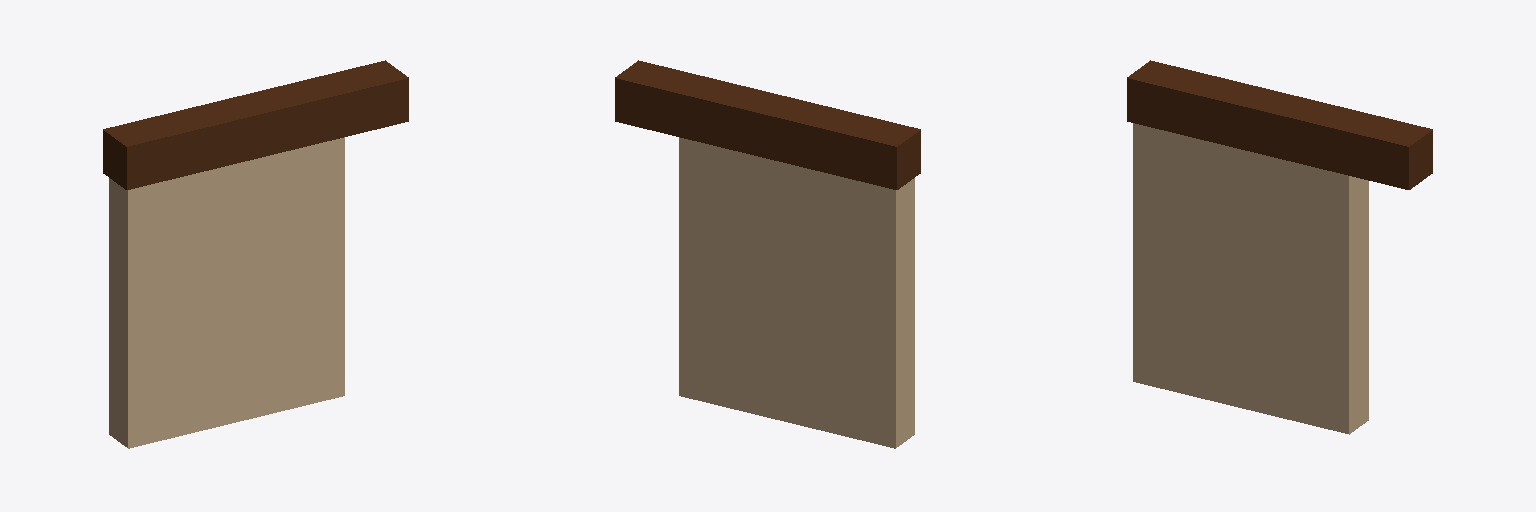
Rendered from sign2.obj.
3 views of the same model, side by side, from view 1: azimuth 30°, elevation 25°; view 2: azimuth 150°, elevation 25°; view 3: azimuth 330°, elevation 25° (orthographic).
Parts seen in each view (by area): view 1: Object.1, Object.2; view 2: Object.1, Object.2; view 3: Object.1, Object.2.
Boxes of the visible parts, <box> form: Object.1: <box>109,137,344,448</box>; Object.2: <box>103,60,408,189</box>; Object.1: <box>679,137,914,448</box>; Object.2: <box>615,60,920,189</box>; Object.1: <box>1133,123,1368,434</box>; Object.2: <box>1127,60,1432,189</box>.
Size of the model in its own units: 0.85 by 0.875 by 0.125.